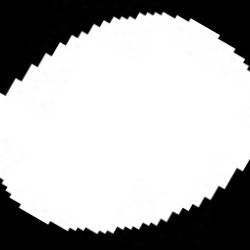spot: (3, 13, 248, 232)
